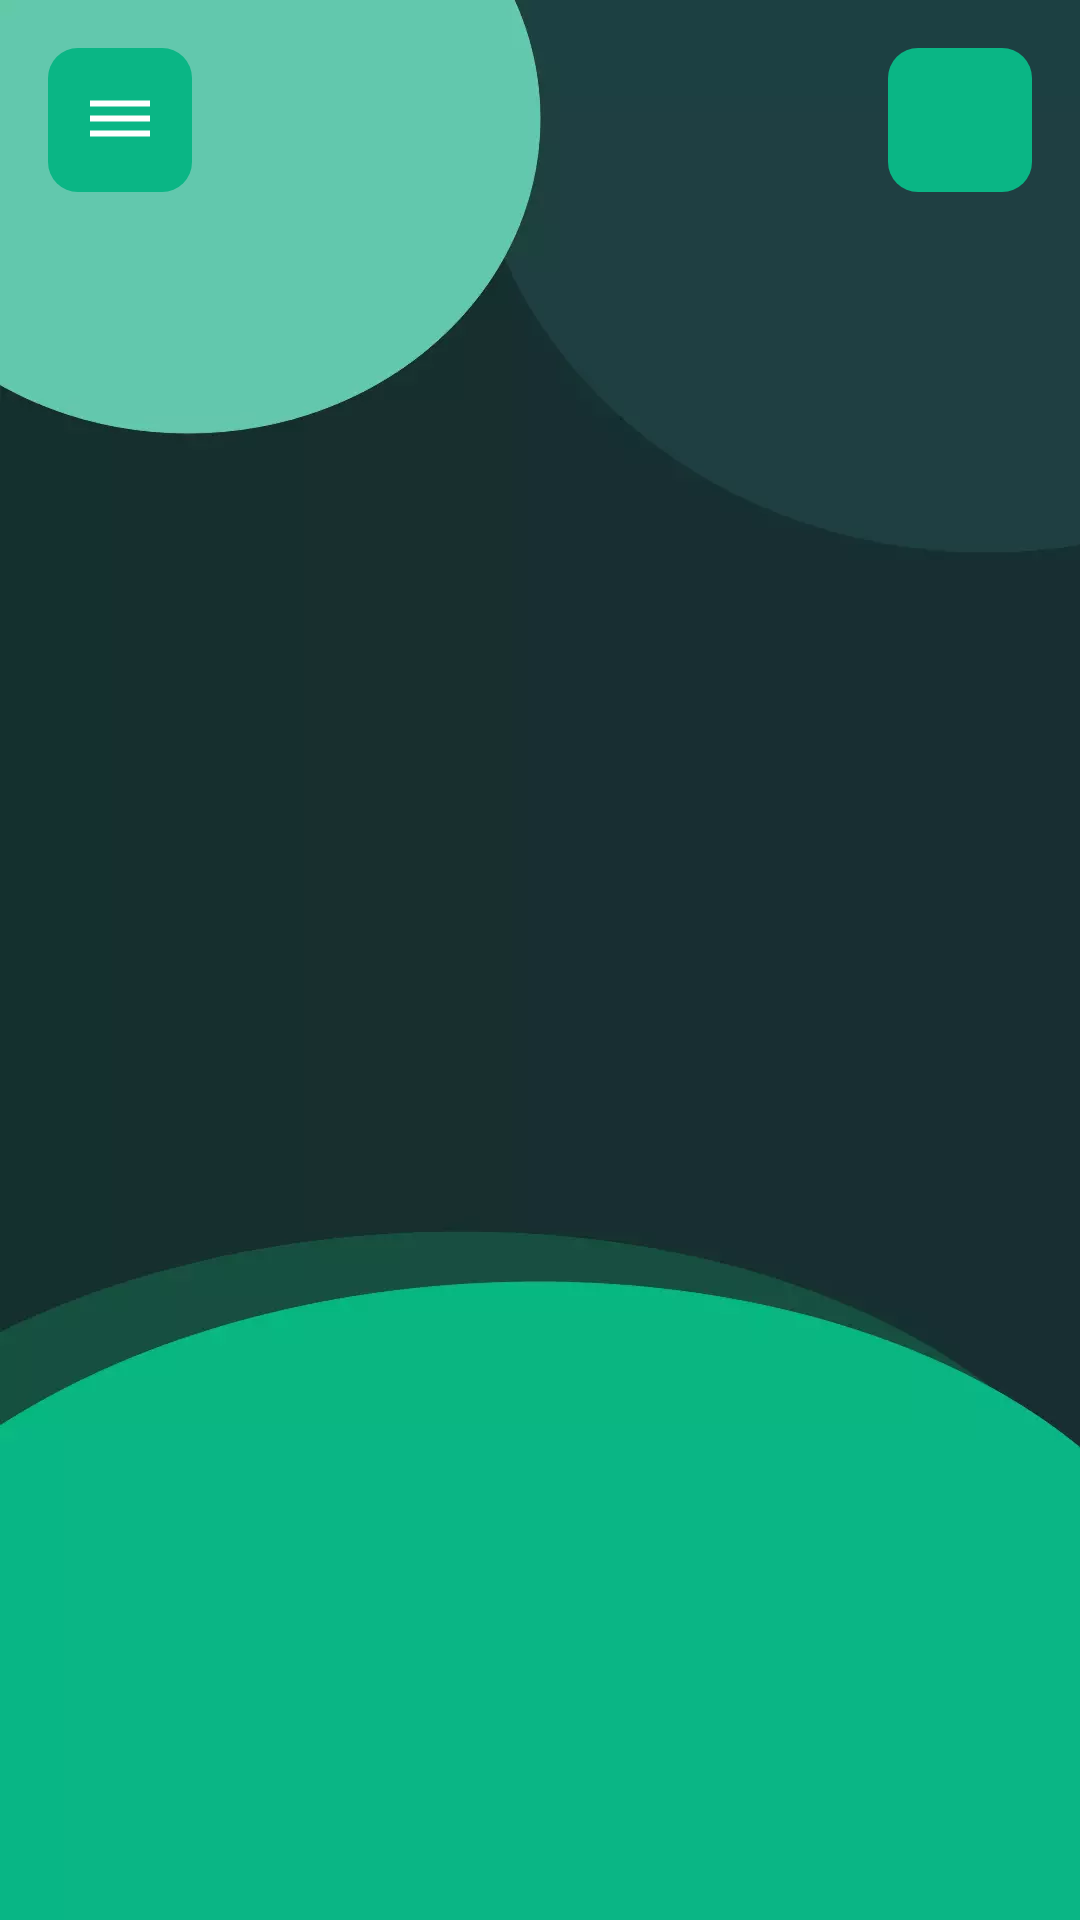

Point at icon controls on the screen. Image size 1080px x 1920px, points as [x,y].
dehaze: [120,120]
